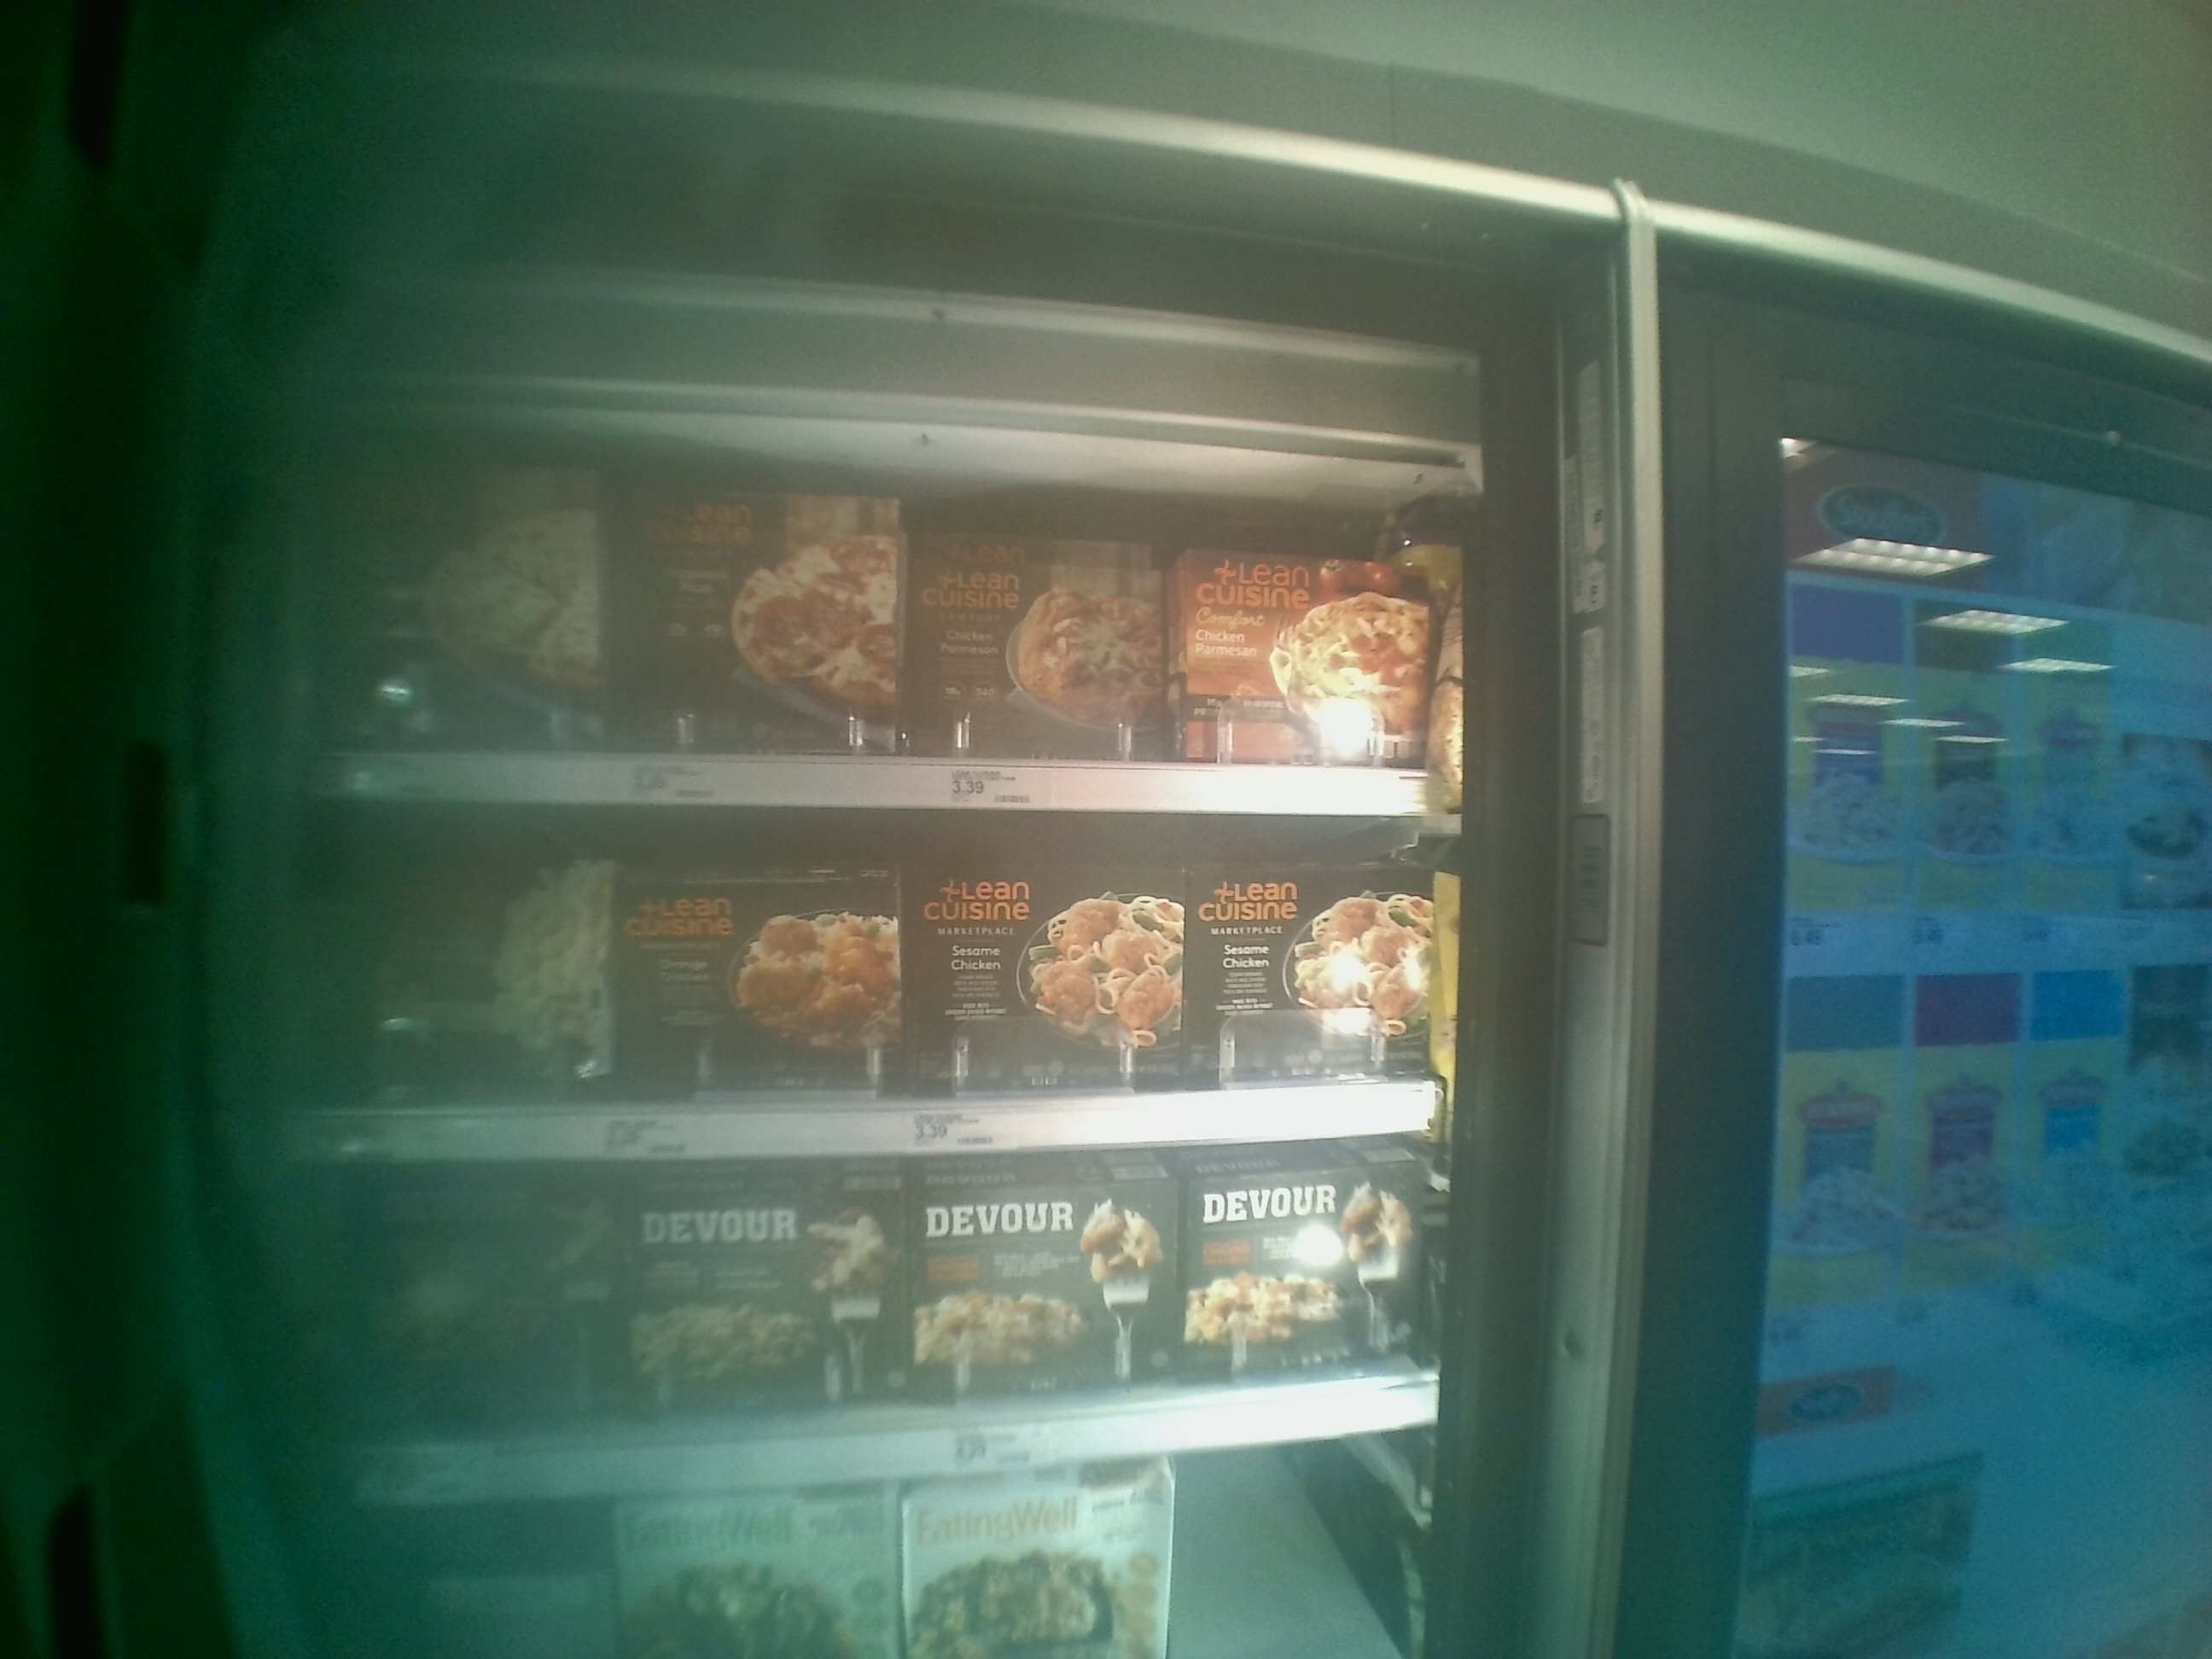shelf: (320, 436, 1447, 819), (314, 793, 1458, 1159), (324, 1161, 1468, 1507)
